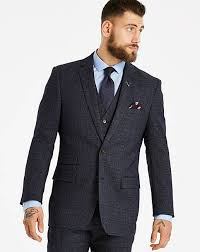F_M_suit jacket: (18, 53, 177, 235)
F_shirt: (94, 51, 125, 116)
F_tie: (100, 67, 114, 115)
